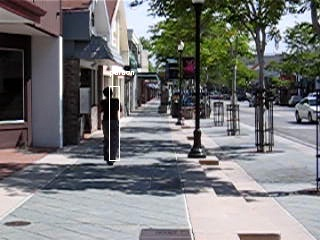person: (97, 88, 122, 166), (96, 88, 121, 166), (98, 88, 123, 166), (97, 87, 122, 165), (97, 89, 122, 167)
target_negative: (97, 93, 176, 216), (44, 196, 230, 222), (270, 187, 294, 237), (210, 79, 227, 143), (288, 49, 296, 180), (223, 193, 234, 209)
